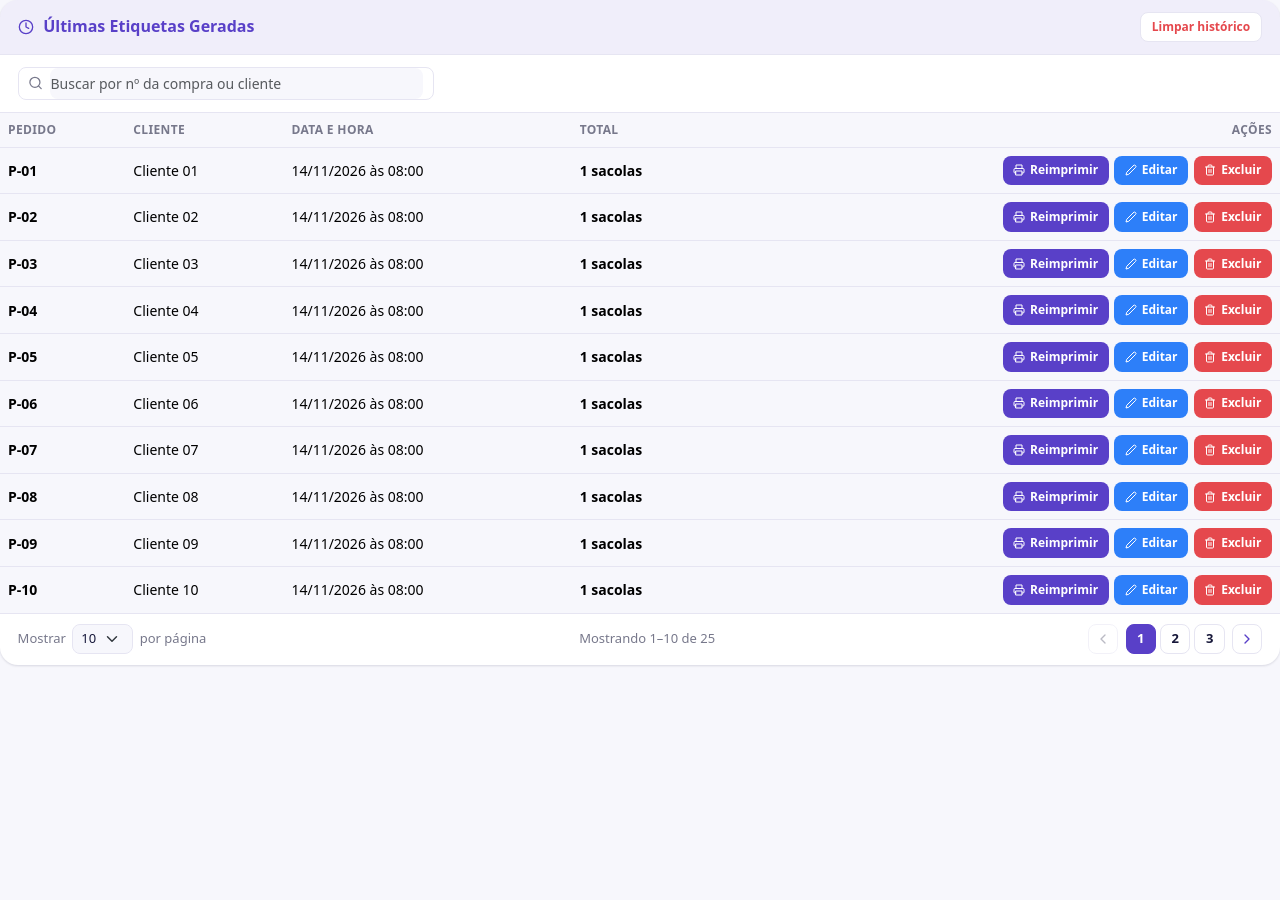
Scenario: HistoryTable — paginação › respeita o tamanho de página escolhido
Select "20" in the dropdown named "Itens por página" at (103, 639), box [72,624,133,654]
(page scrolled)
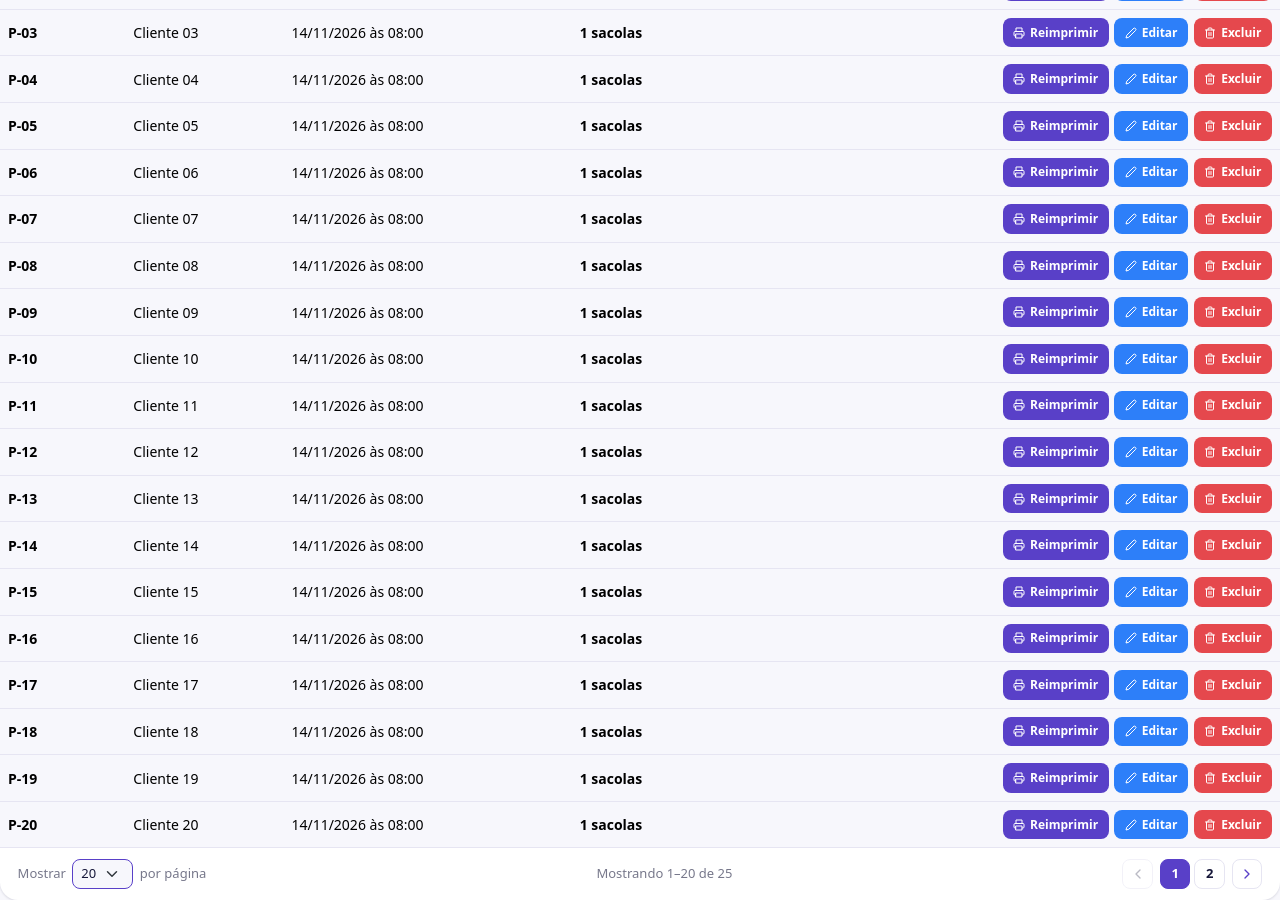
Expected: the text "Mostrando 1–20 de 25" is shown, [596,864,732,884]
